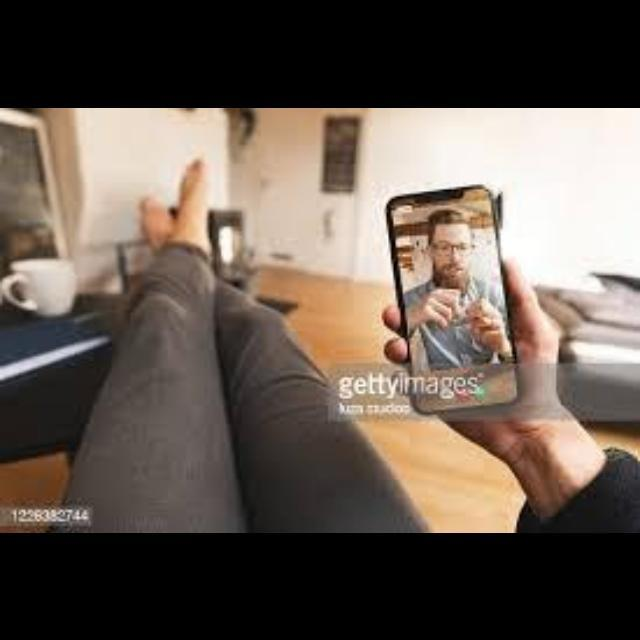phone: (357, 173, 547, 439)
